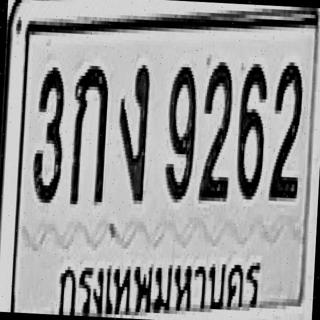A01: (68, 62, 110, 206)
A07: (114, 60, 151, 204)
N02: (198, 58, 235, 202), (269, 60, 304, 200)
N03: (31, 63, 66, 204)
N06: (234, 60, 268, 200)
N09: (164, 63, 198, 204)
P04: (53, 248, 265, 320)
